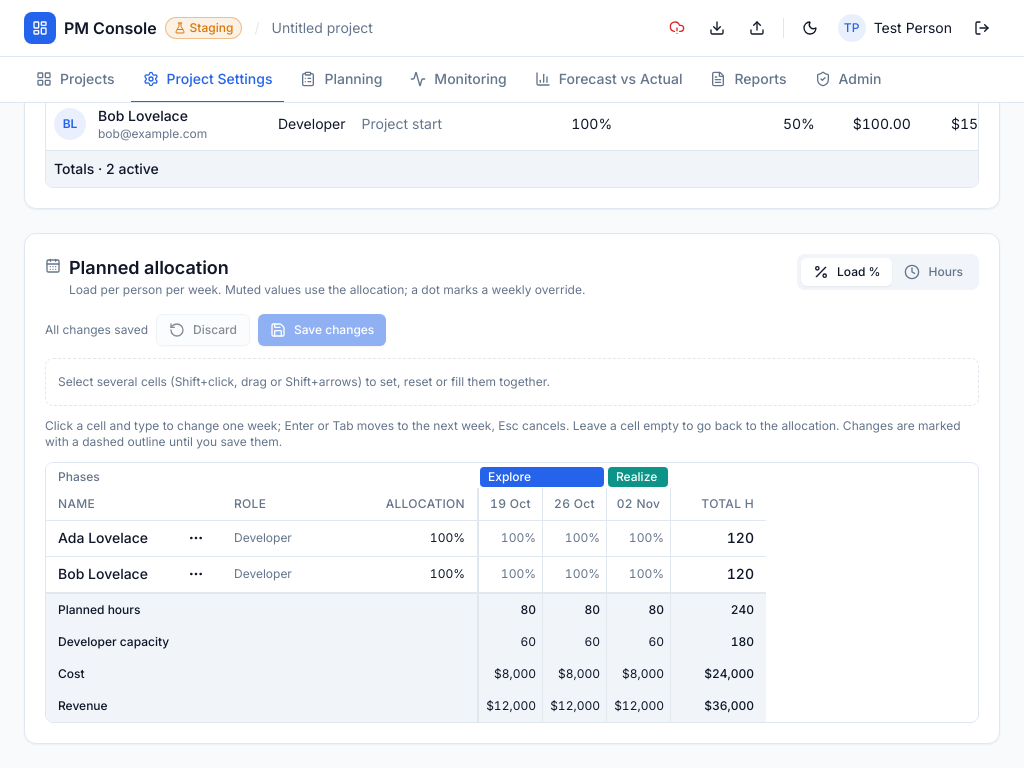
Scenario: Planned allocation grid › keeps an edit pending, previewed in the grid, until Save changes
(page scrolled)
Click the 4th cell "100%" at point(574, 538), box x1=542 y1=520 x2=606 y2=556
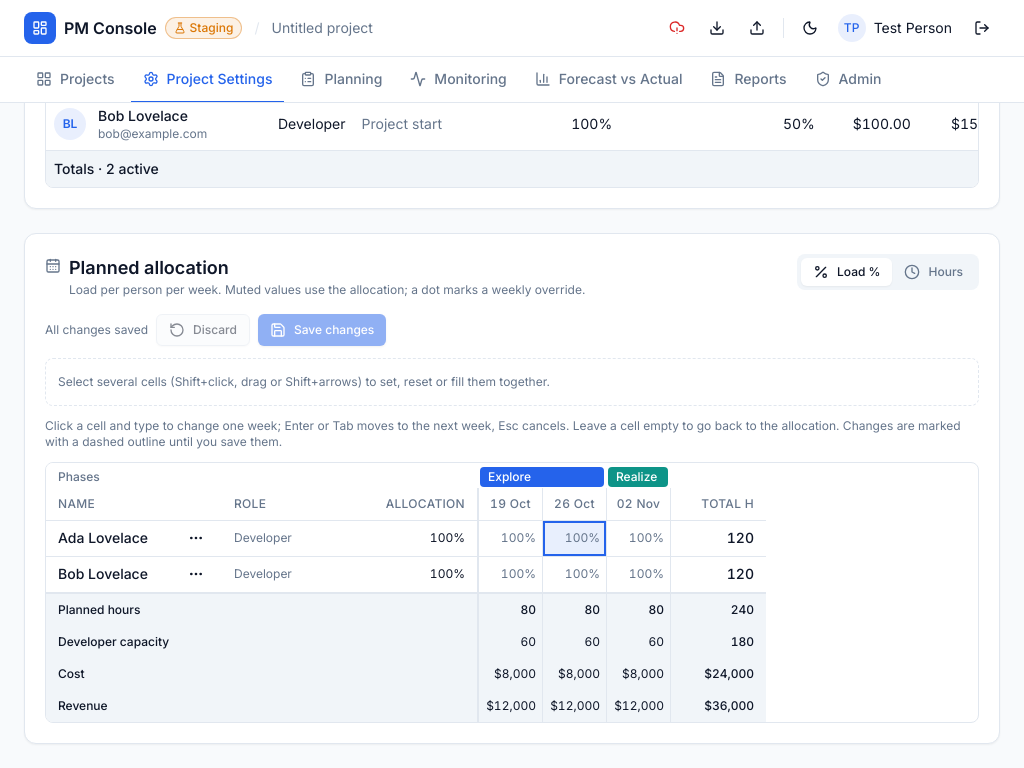
Type keys "50{Enter}"
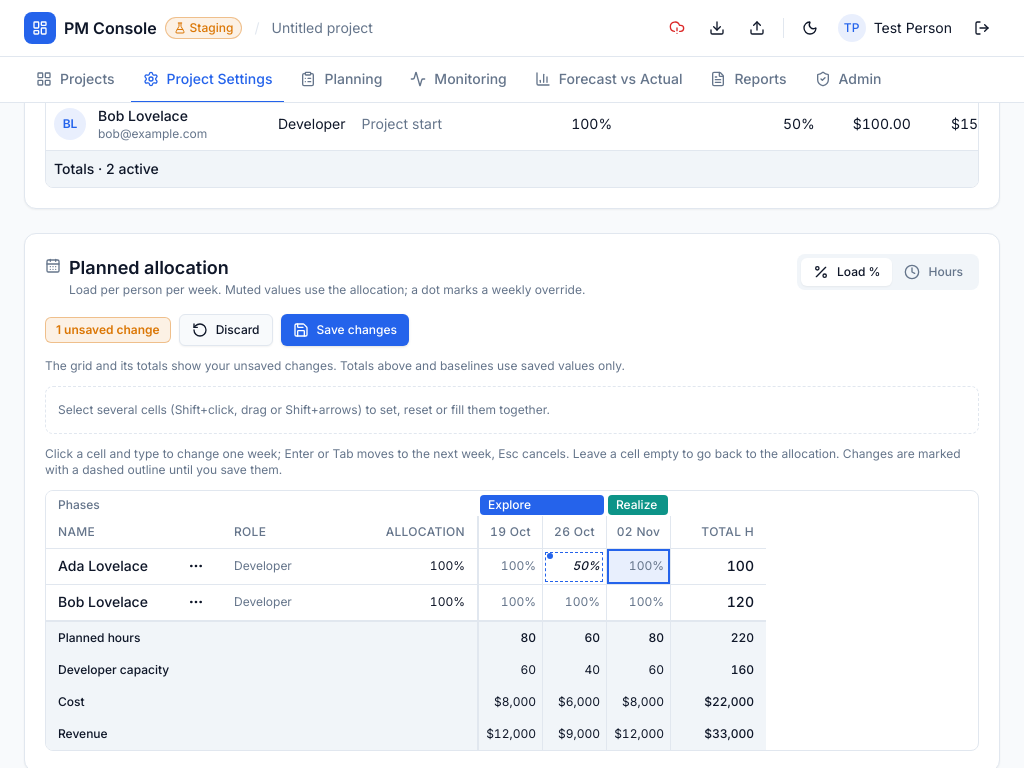
Expected: the cell "50%" below "19 Oct" is shown, x1=572 y1=558 x2=600 y2=573
Expected: the text "1 unsaved change" is shown, x1=45 y1=316 x2=171 y2=342
Click the button "Save changes" at point(345, 330), box x1=280 y1=314 x2=409 y2=346
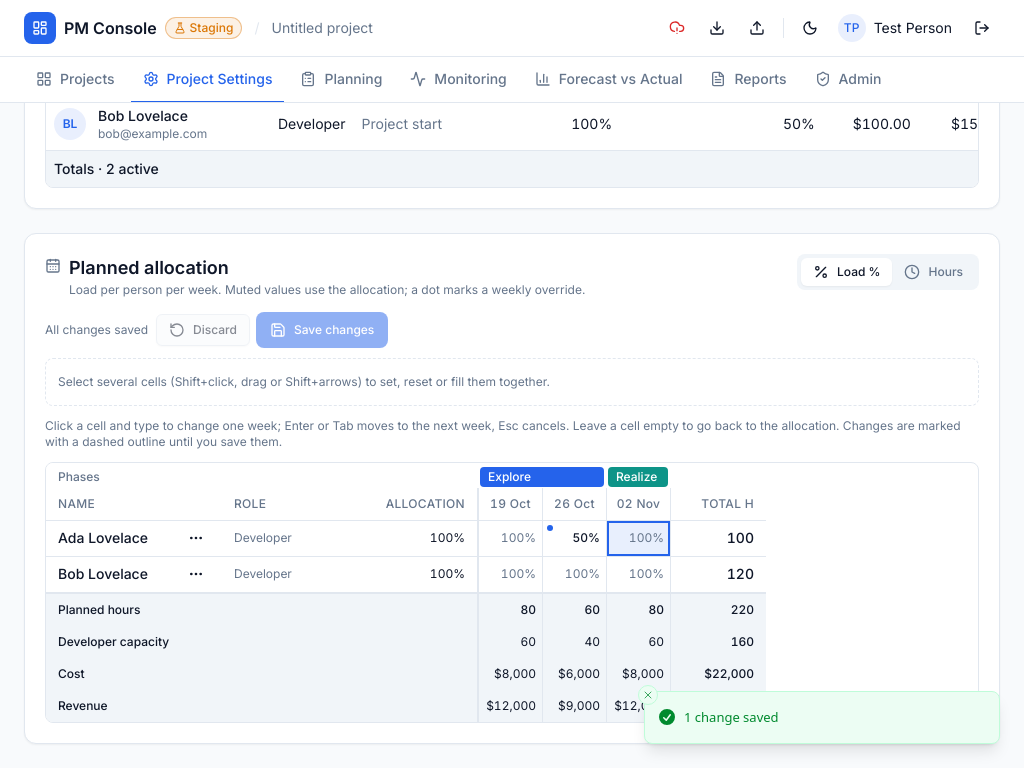
Expected: the text "All changes saved" is shown, x1=45 y1=322 x2=148 y2=338
